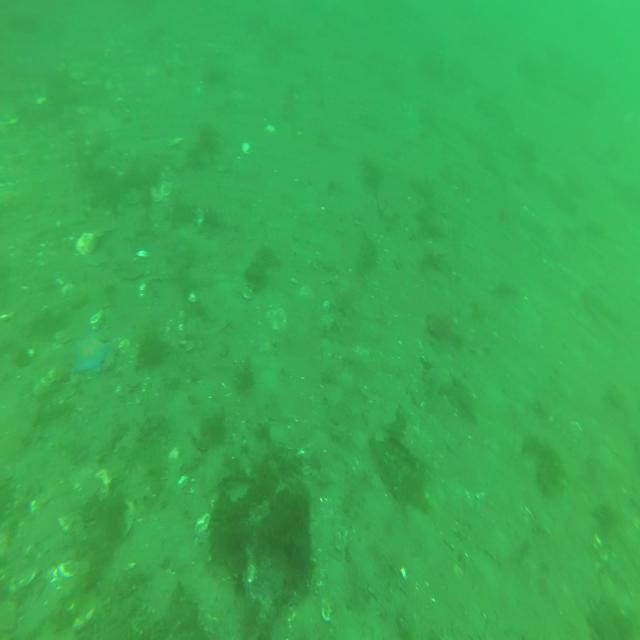starfish: (69, 325, 110, 376)
